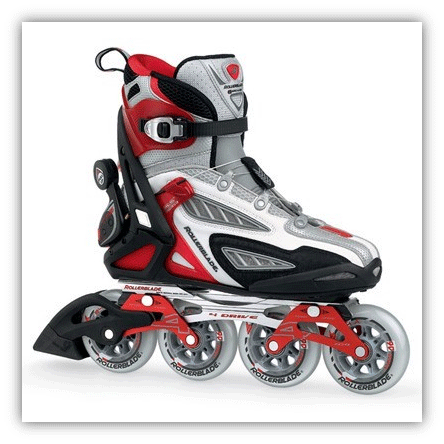roller_blade: (63, 51, 409, 393)
